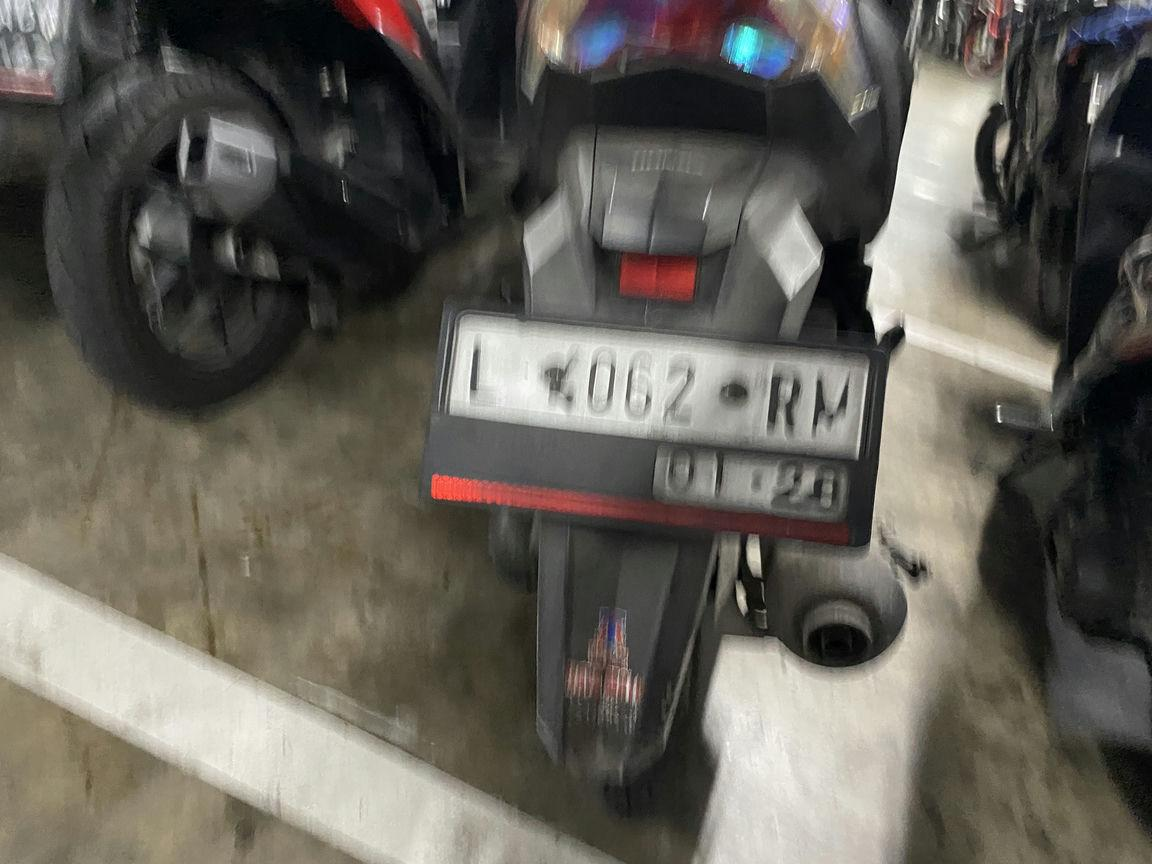plat: (423, 306, 886, 544)
